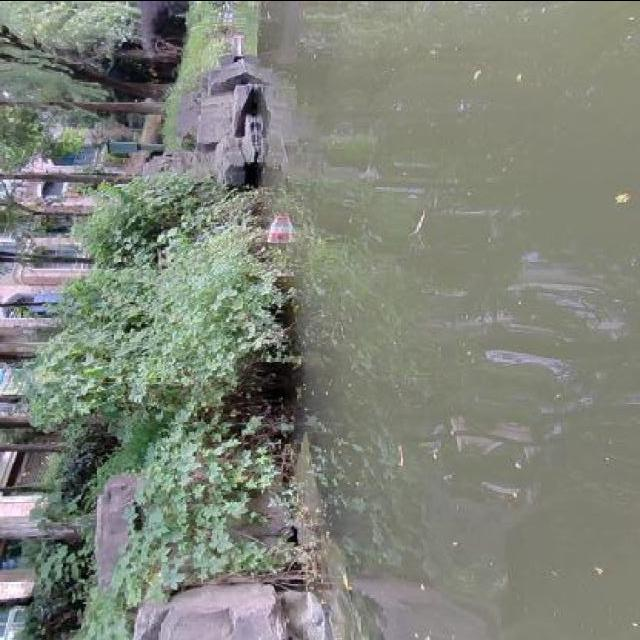Bottle: (258, 206, 290, 250)
